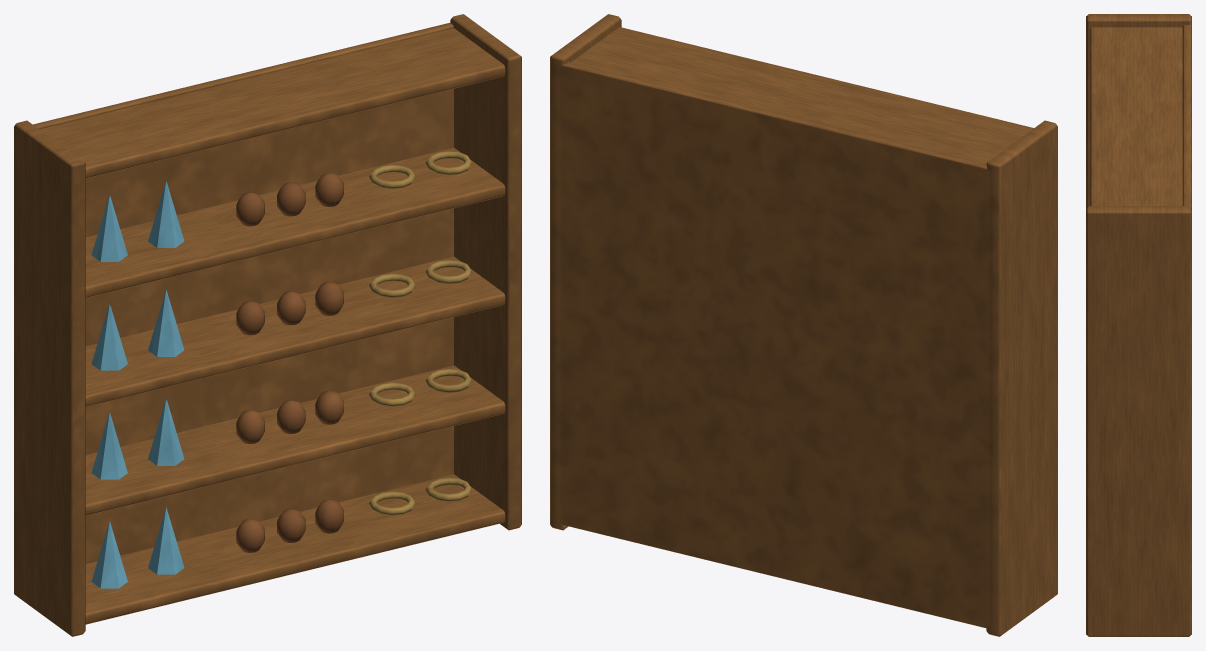
The model's file is Furn_TreasureShelf.fbx.
3 views of the same model, side by side, from view 1: azimuth 30°, elevation 25°; view 2: azimuth 150°, elevation 25°; view 3: azimuth 270°, elevation 25° (orthographic). The views are drawn at different scales.
Visible parts, largest first — view 1: Furn_TreasureShelf_Mesh; view 2: Furn_TreasureShelf_Mesh; view 3: Furn_TreasureShelf_Mesh.
Part boxes in pixels (bbox=[...]): Furn_TreasureShelf_Mesh: bbox=[14, 14, 521, 636]; Furn_TreasureShelf_Mesh: bbox=[550, 14, 1057, 636]; Furn_TreasureShelf_Mesh: bbox=[1086, 14, 1191, 636].
Bounding box in the file's own units: 2 × 2 × 0.45.
Materials: 4 (4 with a texture image).
